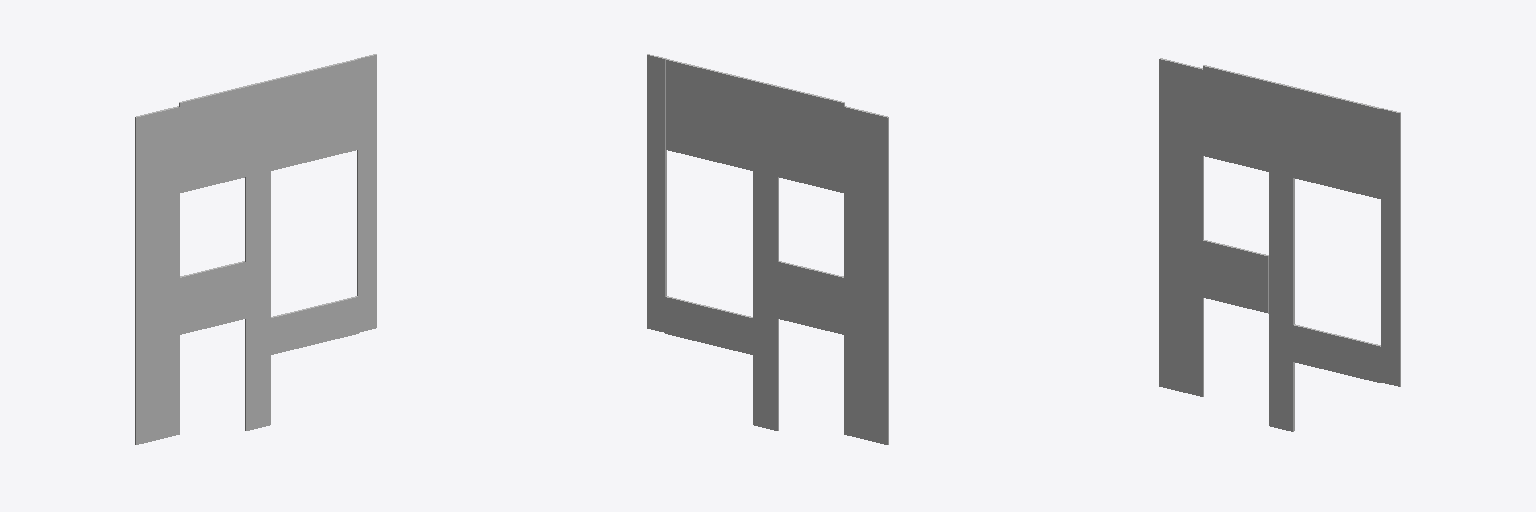
Rendered from laststreet.obj.
The picture shows the model from 3 angles: view 1: azimuth 30°, elevation 25°; view 2: azimuth 150°, elevation 25°; view 3: azimuth 330°, elevation 25°; orthographic projection.
Parts seen in each view (by area): view 1: Box03; view 2: Box03; view 3: Box03.
Part boxes in pixels (x1,y1,x2,y2): Box03: (135,54,376,444); Box03: (647,54,888,444); Box03: (1159,58,1400,431).
Bounding box in the file's own units: 207 × 283 × 2.06.